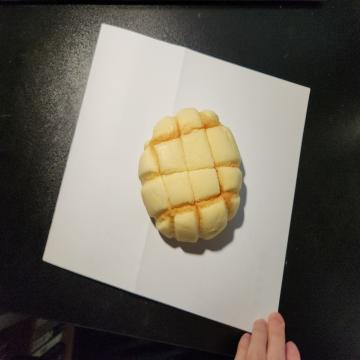melon_bread: (139, 109, 243, 248)
